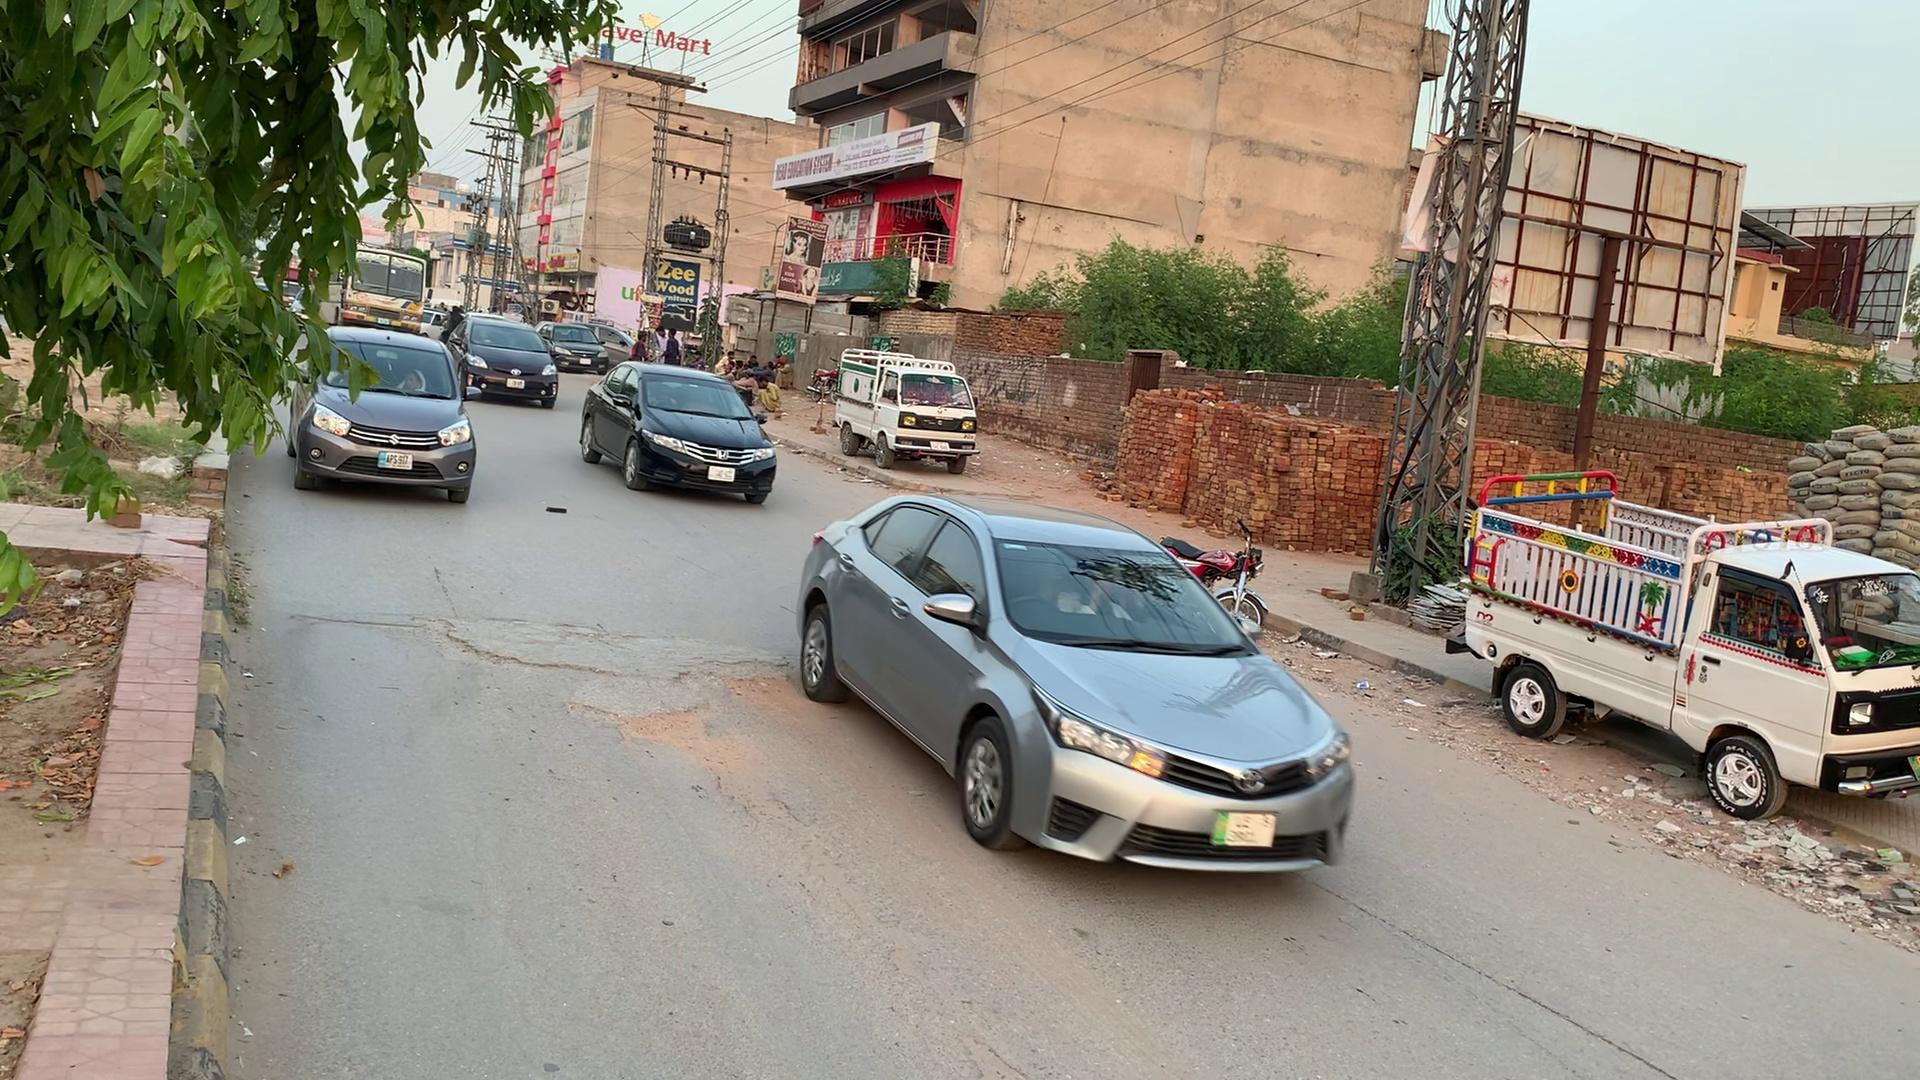windshield: (978, 535, 1271, 662)
